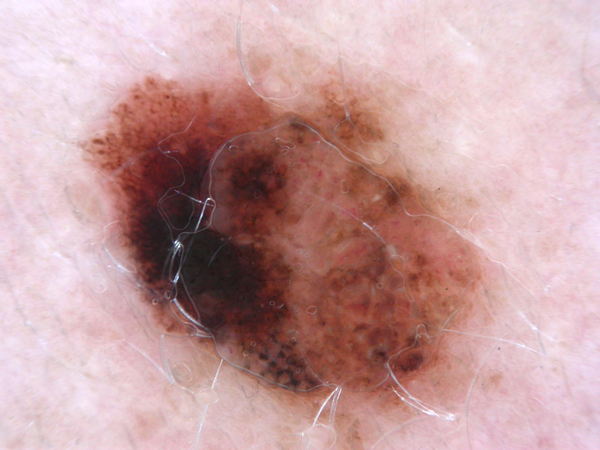Detected Lesion: (78, 63, 489, 411)
